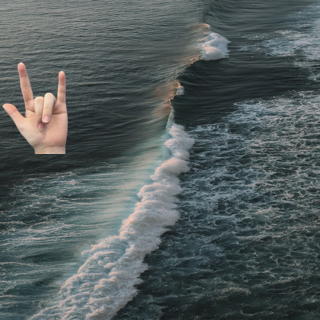ILY: (1, 58, 74, 149)
